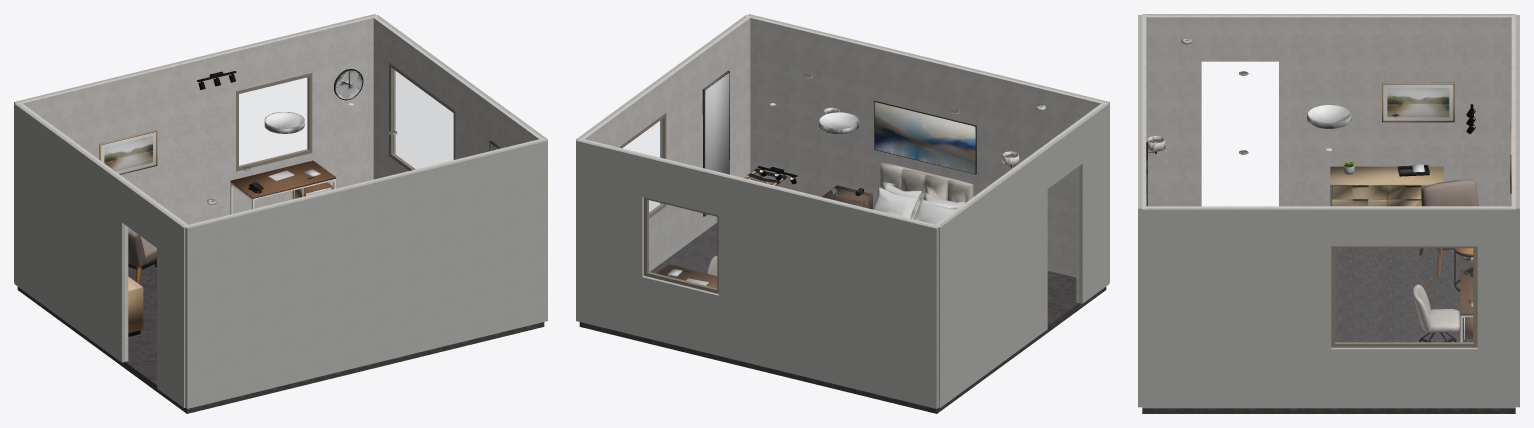
Rendered from scene_named.glb.
3 views of the same model, side by side, from view 1: azimuth 30°, elevation 25°; view 2: azimuth 150°, elevation 25°; view 3: azimuth 270°, elevation 25° (orthographic). The views are drawn at different scales.
Parts seen in each view (by area): view 1: south_wall_exterior_hotel_room/south_wall_exterior_hotel_roo, north_wall_hotel_room/north_wall_hotel_room/geometry_0, west_wall_exterior_hotel_room/west_wall_exterior_hotel_room/, east_wall_hotel_room/east_wall_hotel_room/geometry_0, floor_hotel_room, window_3_hotel_room/window_3_hotel_room/glass, window_2_hotel_room/window_2_hotel_room/glass, photograph_print_0, writing_desk_0/E_body_1, window_2_hotel_room/window_2_hotel_room/frame, west_wall_hotel_room/west_wall_hotel_room/geometry_0, north_wall_exterior_hotel_room/north_wall_exterior_hotel_roo (+7 smaller); view 2: north_wall_exterior_hotel_room/north_wall_exterior_hotel_roo, south_wall_hotel_room/south_wall_hotel_room/geometry_0, west_wall_exterior_hotel_room/west_wall_exterior_hotel_room/, east_wall_hotel_room/east_wall_hotel_room/geometry_0, floor_hotel_room, canvas_print_0, window_2_hotel_room/window_2_hotel_room/glass, bed_0, mirror_0, west_wall_hotel_room/west_wall_hotel_room/geometry_0, window_2_hotel_room/window_2_hotel_room/frame, south_wall_exterior_hotel_room/south_wall_exterior_hotel_roo (+7 smaller); view 3: east_wall_exterior_hotel_room/east_wall_exterior_hotel_room/, west_wall_hotel_room/west_wall_hotel_room/geometry_0, window_3_hotel_room/window_3_hotel_room/glass, floor_hotel_room, dresser_0, photograph_print_1, window_3_hotel_room/window_3_hotel_room/frame, north_wall_exterior_hotel_room/north_wall_exterior_hotel_roo, south_wall_exterior_hotel_room/south_wall_exterior_hotel_roo, lounge_chair_0, desk_chair_0, north_wall_hotel_room/north_wall_hotel_room/geometry_0 (+5 smaller).
Part boxes in pixels (<box>): south_wall_exterior_hotel_room/south_wall_exterior_hotel_roo: <box>185,139,547,408</box>; north_wall_hotel_room/north_wall_hotel_room/geometry_0: <box>16,15,377,224</box>; west_wall_exterior_hotel_room/west_wall_exterior_hotel_room/: <box>14,103,185,407</box>; east_wall_hotel_room/east_wall_hotel_room/geometry_0: <box>373,17,542,179</box>; floor_hotel_room: <box>17,263,544,413</box>; window_3_hotel_room/window_3_hotel_room/glass: <box>392,69,453,169</box>; window_2_hotel_room/window_2_hotel_room/glass: <box>239,77,307,165</box>; photograph_print_0: <box>99,130,157,174</box>; writing_desk_0/E_body_1: <box>230,160,335,198</box>; window_2_hotel_room/window_2_hotel_room/frame: <box>236,73,312,171</box>; west_wall_hotel_room/west_wall_hotel_room/geometry_0: <box>20,103,187,361</box>; north_wall_exterior_hotel_room/north_wall_exterior_hotel_roo: <box>14,14,375,281</box>; north_wall_exterior_hotel_room/north_wall_exterior_hotel_roo: <box>576,139,938,408</box>; south_wall_hotel_room/south_wall_hotel_room/geometry_0: <box>746,15,1107,277</box>; west_wall_exterior_hotel_room/west_wall_exterior_hotel_room/: <box>938,103,1109,407</box>; east_wall_hotel_room/east_wall_hotel_room/geometry_0: <box>581,17,750,271</box>; floor_hotel_room: <box>579,223,1106,413</box>; canvas_print_0: <box>874,101,976,174</box>; window_2_hotel_room/window_2_hotel_room/glass: <box>648,200,716,288</box>; bed_0: <box>873,161,973,224</box>; mirror_0: <box>702,70,729,216</box>; west_wall_hotel_room/west_wall_hotel_room/geometry_0: <box>936,103,1103,302</box>; window_2_hotel_room/window_2_hotel_room/frame: <box>644,197,718,293</box>; south_wall_exterior_hotel_room/south_wall_exterior_hotel_roo: <box>748,14,1109,281</box>; east_wall_exterior_hotel_room/east_wall_exterior_hotel_room/: <box>1142,208,1515,408</box>; west_wall_hotel_room/west_wall_hotel_room/geometry_0: <box>1146,15,1511,206</box>; window_3_hotel_room/window_3_hotel_room/glass: <box>1335,248,1472,342</box>; floor_hotel_room: <box>1142,248,1515,413</box>; dresser_0: <box>1330,166,1443,206</box>; photograph_print_1: <box>1382,82,1454,122</box>; window_3_hotel_room/window_3_hotel_room/frame: <box>1331,246,1477,347</box>; north_wall_exterior_hotel_room/north_wall_exterior_hotel_roo: <box>1515,15,1519,407</box>; south_wall_exterior_hotel_room/south_wall_exterior_hotel_roo: <box>1138,15,1142,407</box>; lounge_chair_0: <box>1418,179,1478,277</box>; desk_chair_0: <box>1413,284,1459,342</box>; north_wall_hotel_room/north_wall_hotel_room/geometry_0: <box>1511,15,1515,208</box>.
Bounding box in the file's own units: 5.7 × 2.8 × 4.7.
39 materials, 32 textured.
